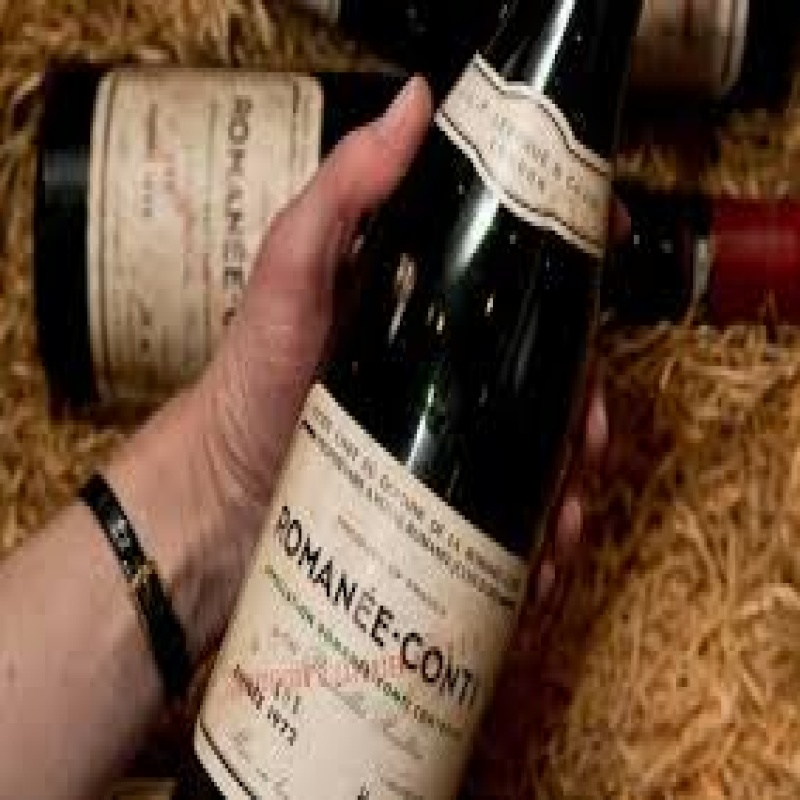wine: (137, 1, 632, 781)
